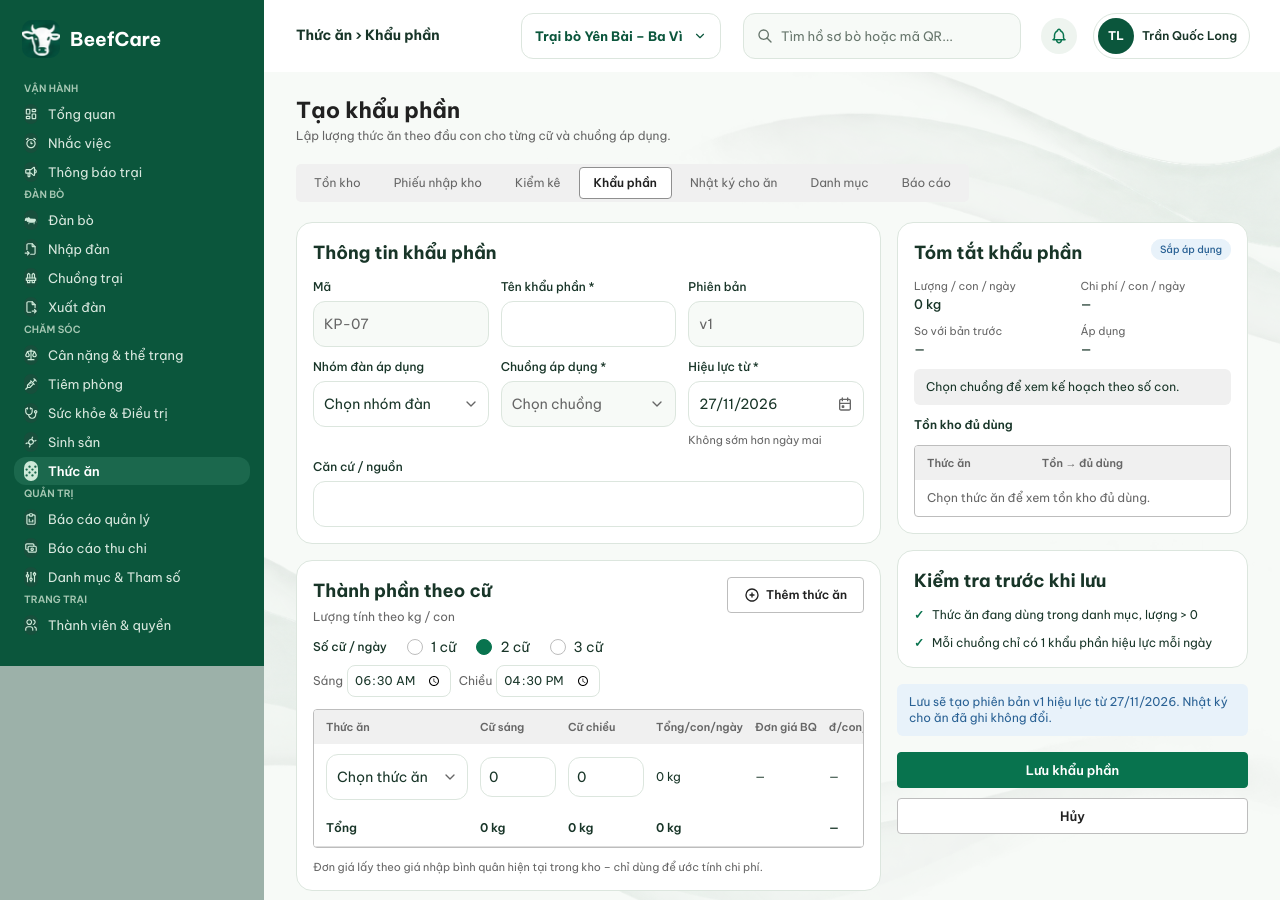
Test: SCR-81/82 rations › shows validation errors before creating an incomplete ration
The image size is (1280, 900).
Expected: the heading "Tạo khẩu phần" is shown, [296,96,460,124]
Step 1. Click the button "Lưu khẩu phần" → (1072, 770), box [897,752,1248,788]
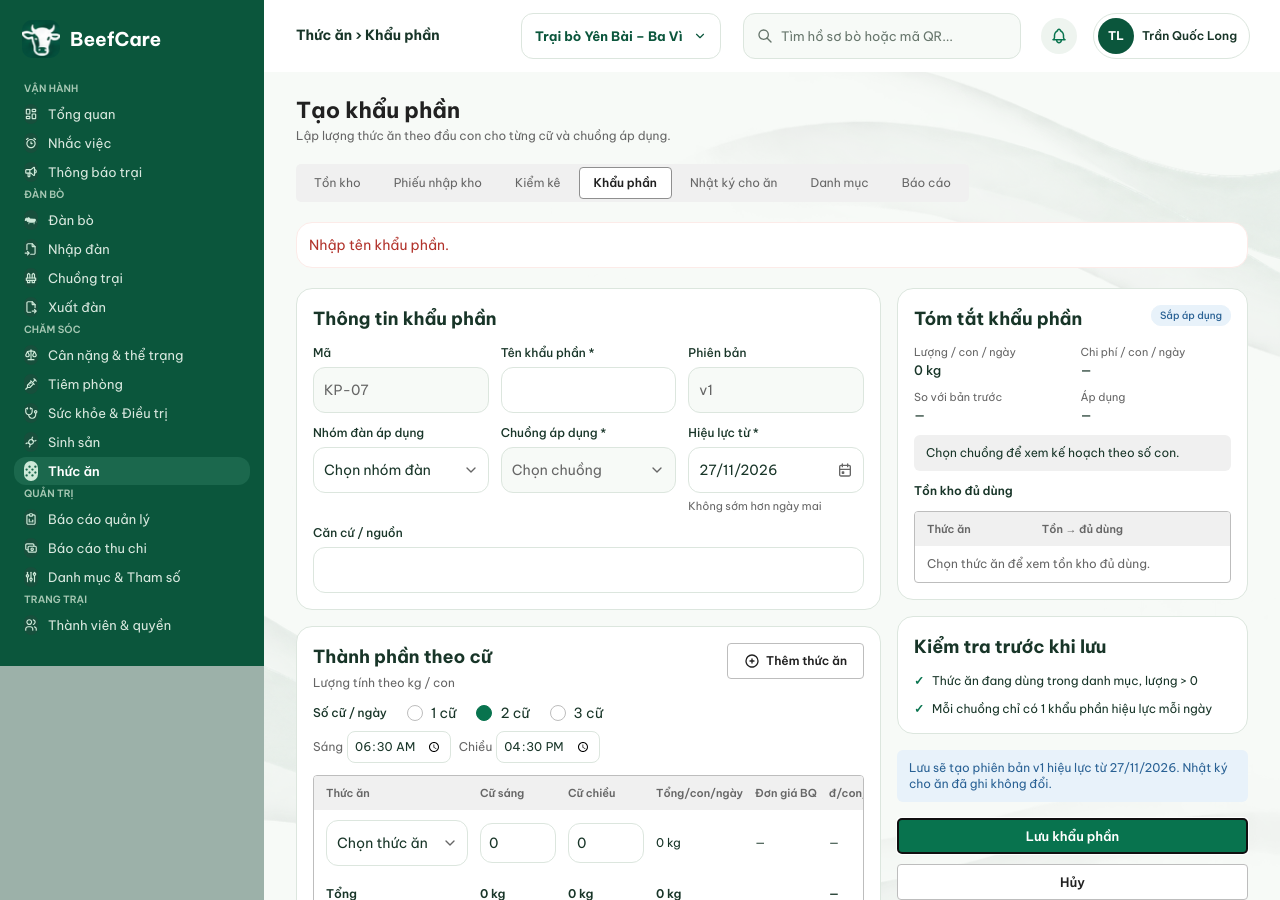
Expected: the message reads "Nhập tên khẩu phần.", [309,236,449,254]
Step 2. Type "Chưa đủ dữ liệu" into the label labelled "Tên khẩu phần" → (548, 352), box [501,345,595,360]
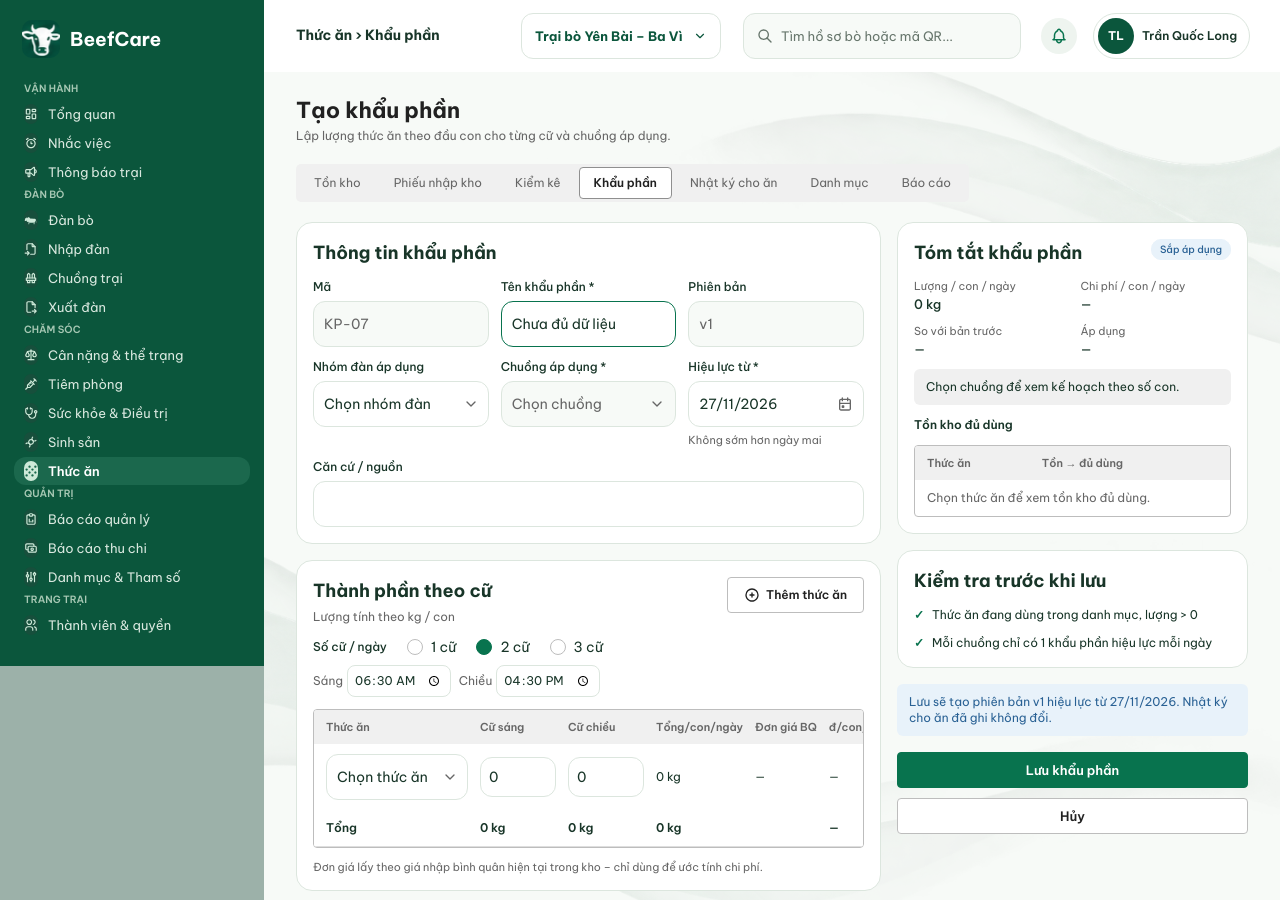
Step 3. Click the button "Lưu khẩu phần" → (1072, 770), box [897,752,1248,788]
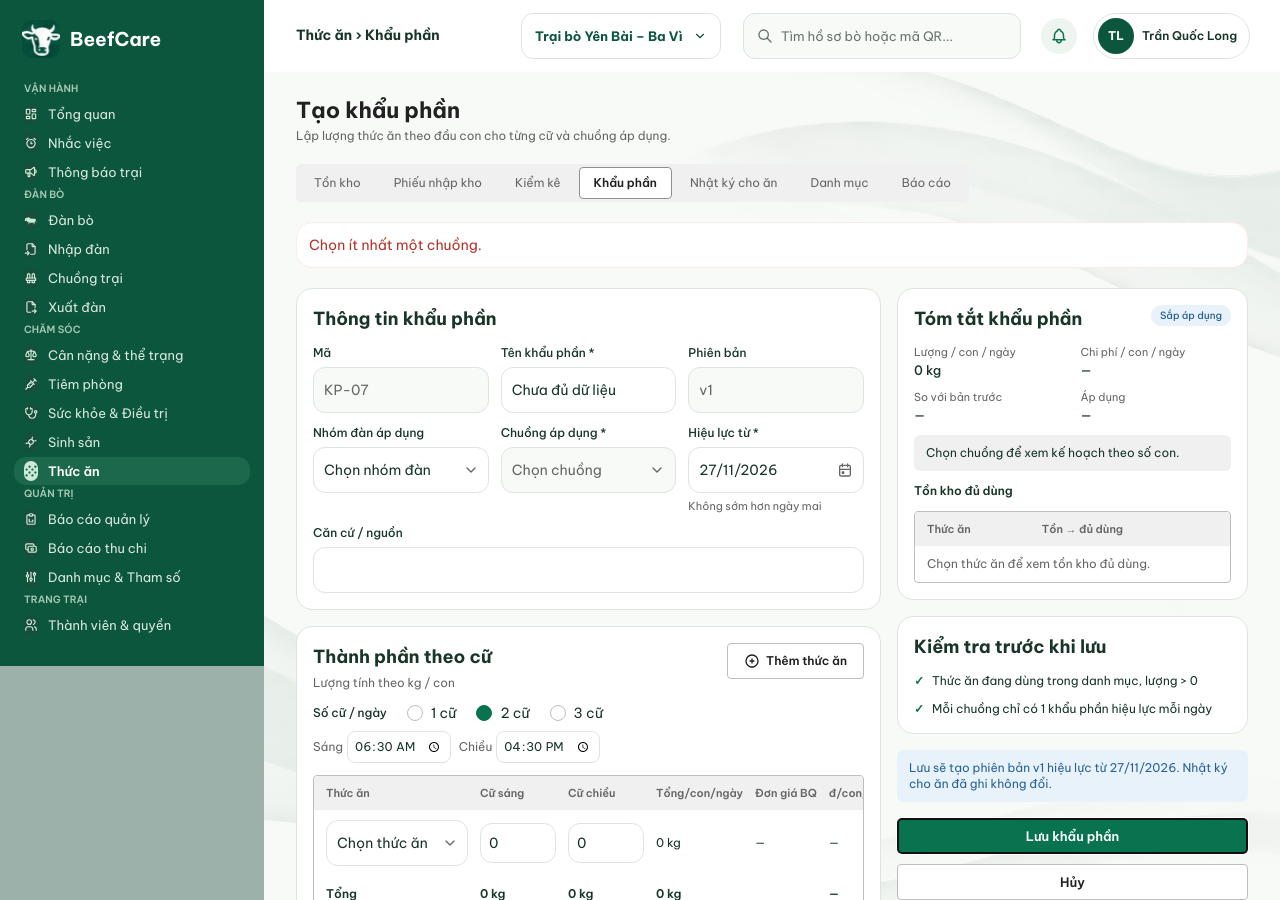
Expected: the message reads "Chọn ít nhất một chuồng.", [309,236,482,254]
